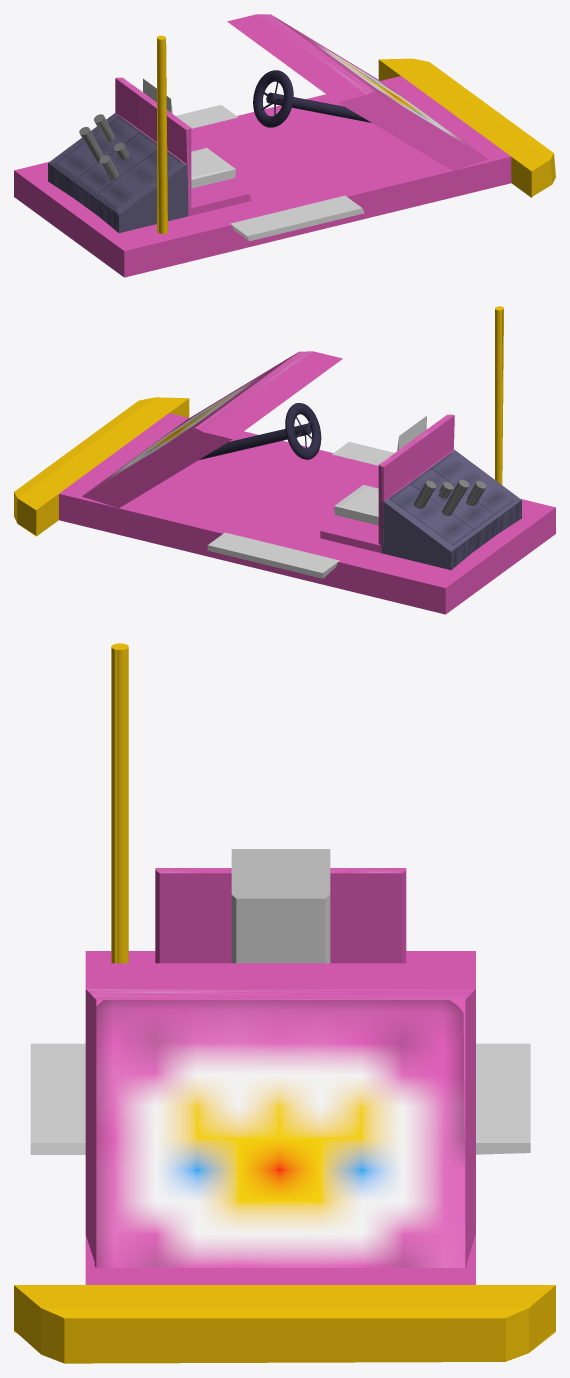
File: CARTO.fbx
3 renders of one model, top to bottom at view 1: azimuth 30°, elevation 25°; view 2: azimuth 150°, elevation 25°; view 3: azimuth 270°, elevation 25°, orthographic. The views are drawn at different scales.
Visible parts, largest first — view 1: CADEIARA; view 2: CADEIARA; view 3: CADEIARA.
Boxes of the visible parts, x1,y1,x2,y2 form: CADEIARA: [14, 14, 555, 277]; CADEIARA: [14, 306, 555, 614]; CADEIARA: [14, 643, 555, 1363].
Bounding box in the file's own units: 445 × 222 × 278.
